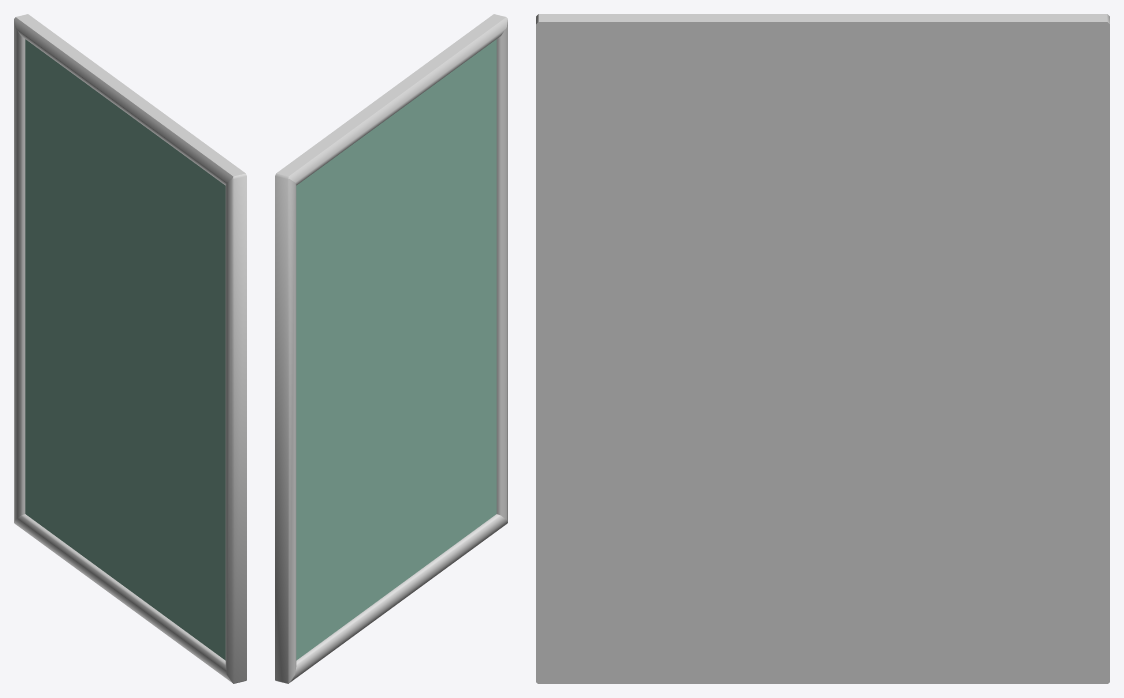
3 renders of one model, left to right at view 1: azimuth 30°, elevation 25°; view 2: azimuth 150°, elevation 25°; view 3: azimuth 270°, elevation 25°, orthographic. The views are drawn at different scales.
Visible parts, largest first — view 1: GH0307; view 2: GH0307; view 3: GH0307.
Boxes of the visible parts, box(x1,y1,x2,y2) form: GH0307: box(14, 14, 246, 683); GH0307: box(275, 14, 507, 683); GH0307: box(536, 14, 1109, 683).
Size of the model in its own units: 2.31 by 55 by 70.
